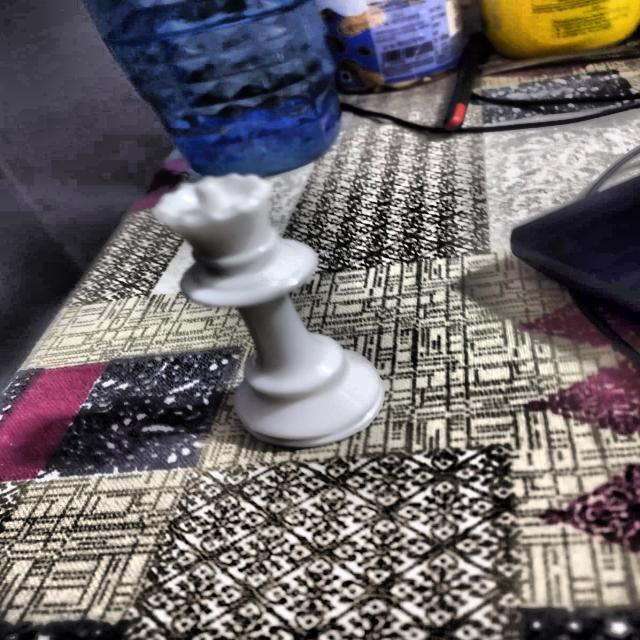WhiteQueen: (148, 172, 386, 448)
